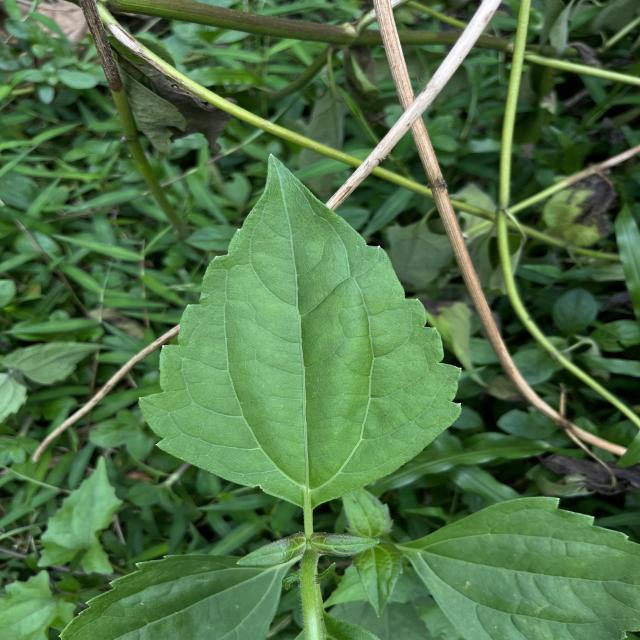Chromolaena odorata: (130, 148, 470, 514)
